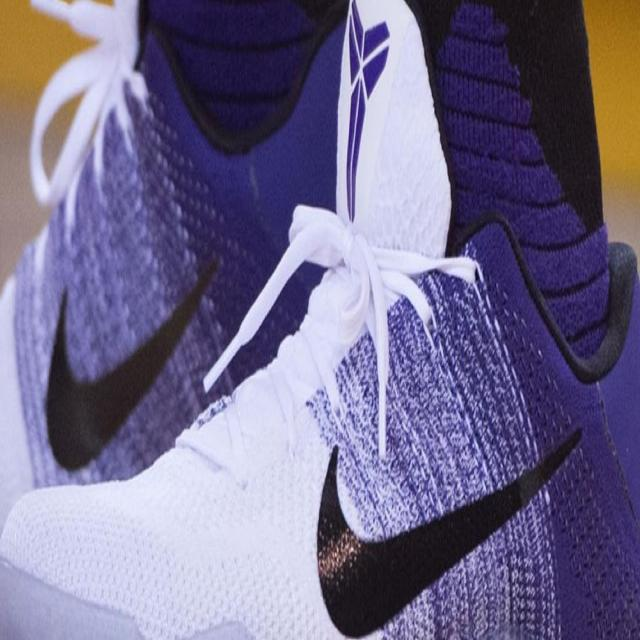nike: (315, 419, 585, 640), (41, 251, 227, 480)
